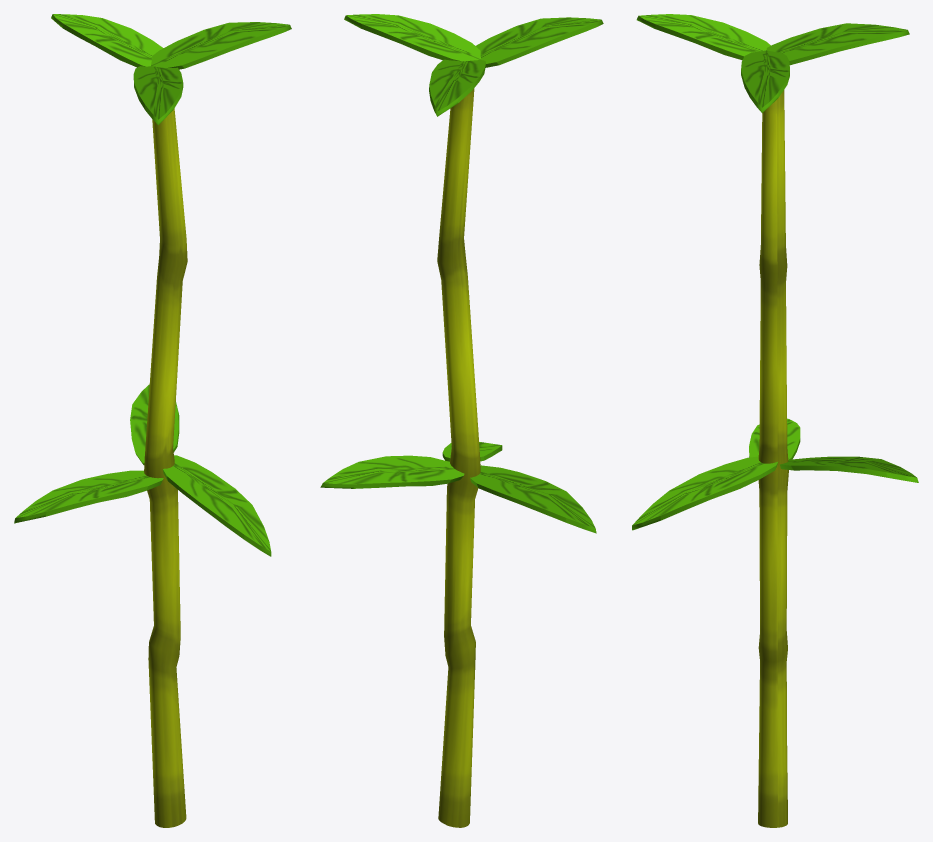
The model's file is bambooandleaves.fbx.
3 renders of one model, left to right at view 1: azimuth 30°, elevation 25°; view 2: azimuth 150°, elevation 25°; view 3: azimuth 270°, elevation 25°, orthographic.
Parts seen in each view (by area): view 1: polySurface1; view 2: polySurface1; view 3: polySurface1.
Part boxes in pixels (left/top/right/bottom): polySurface1: left=14, top=14, right=291, bottom=827; polySurface1: left=320, top=14, right=603, bottom=827; polySurface1: left=632, top=14, right=918, bottom=827.
Size of the model in its own units: 7.73 by 21.77 by 7.24.
